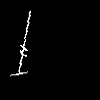treble_crochet: (16, 11, 30, 74)
